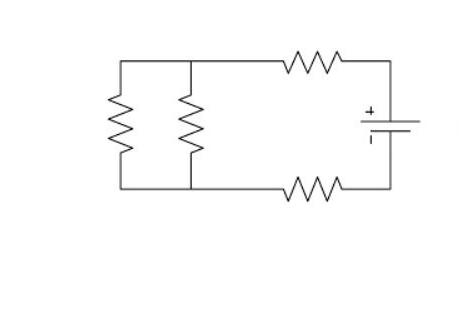resistor: (260, 157, 361, 217), (266, 34, 359, 89), (166, 82, 219, 167), (103, 77, 148, 167)
